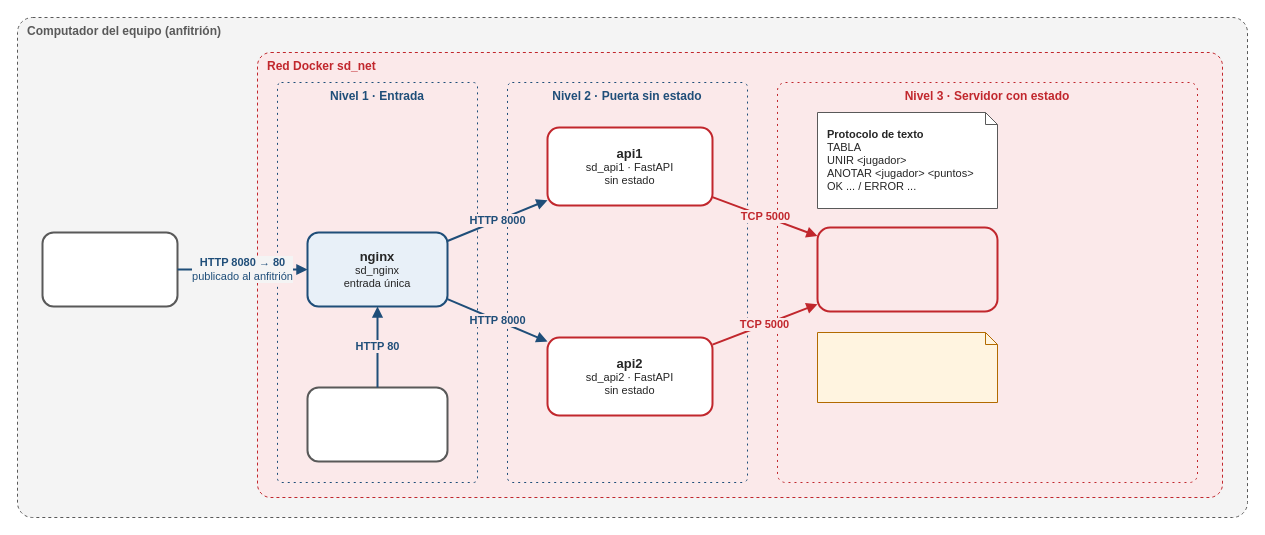
Image size: 1265x535. Some labels were removed from this diagram. The shapes that lost their labels are listed below. From the top down, each one's centre as x and y in pixels, then its label:
At point 109,269: "navegador fuera de Docker".
At point 907,269: "servidor sd_servidor · servidor.py hilo por cliente".
At point 907,367: "Estado compartido puntajes en memoria protegidos con Lock".
At point 377,424: "cliente sd_cliente cliente_http.py".
